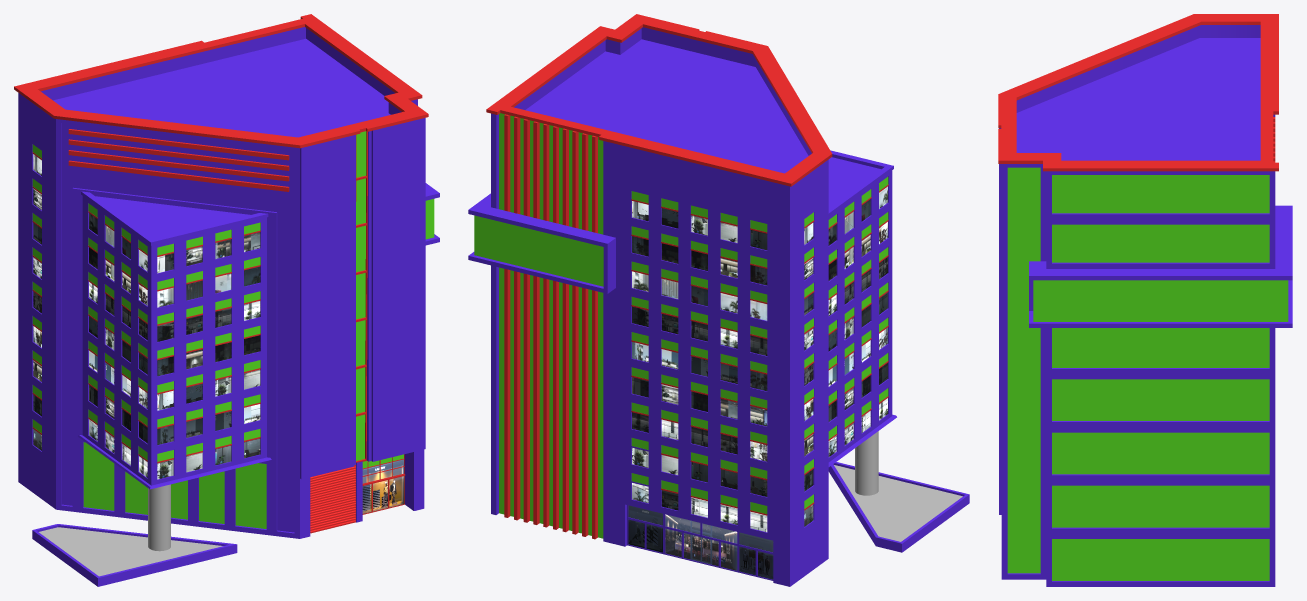
The picture shows the model from 3 angles, left to right: view 1: azimuth 30°, elevation 25°; view 2: azimuth 150°, elevation 25°; view 3: azimuth 270°, elevation 25°; orthographic projection. The views are drawn at different scales.
Parts seen in each view (by area): view 1: Desirefx.me_MediumI_StoneFloor; view 2: Desirefx.me_MediumI_StoneFloor; view 3: Desirefx.me_MediumI_StoneFloor.
Boxes of the visible parts, x1,y1,x2,y2 form: Desirefx.me_MediumI_StoneFloor: (14, 14, 439, 586); Desirefx.me_MediumI_StoneFloor: (468, 14, 969, 586); Desirefx.me_MediumI_StoneFloor: (998, 14, 1292, 586).
Size of the model in its own units: 3786 by 4044 by 2567.
